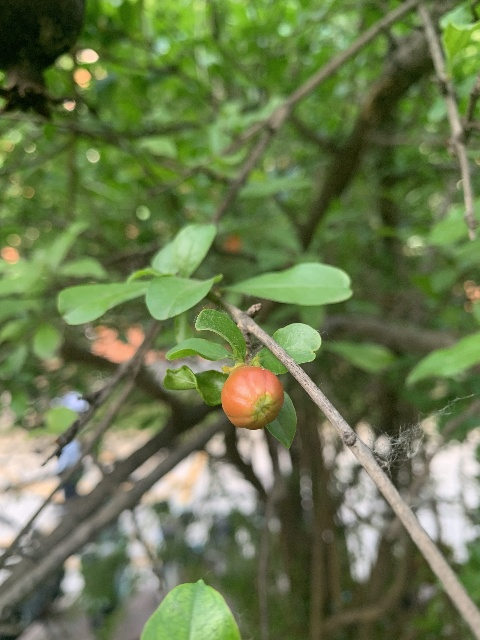bud: (221, 365, 283, 430)
